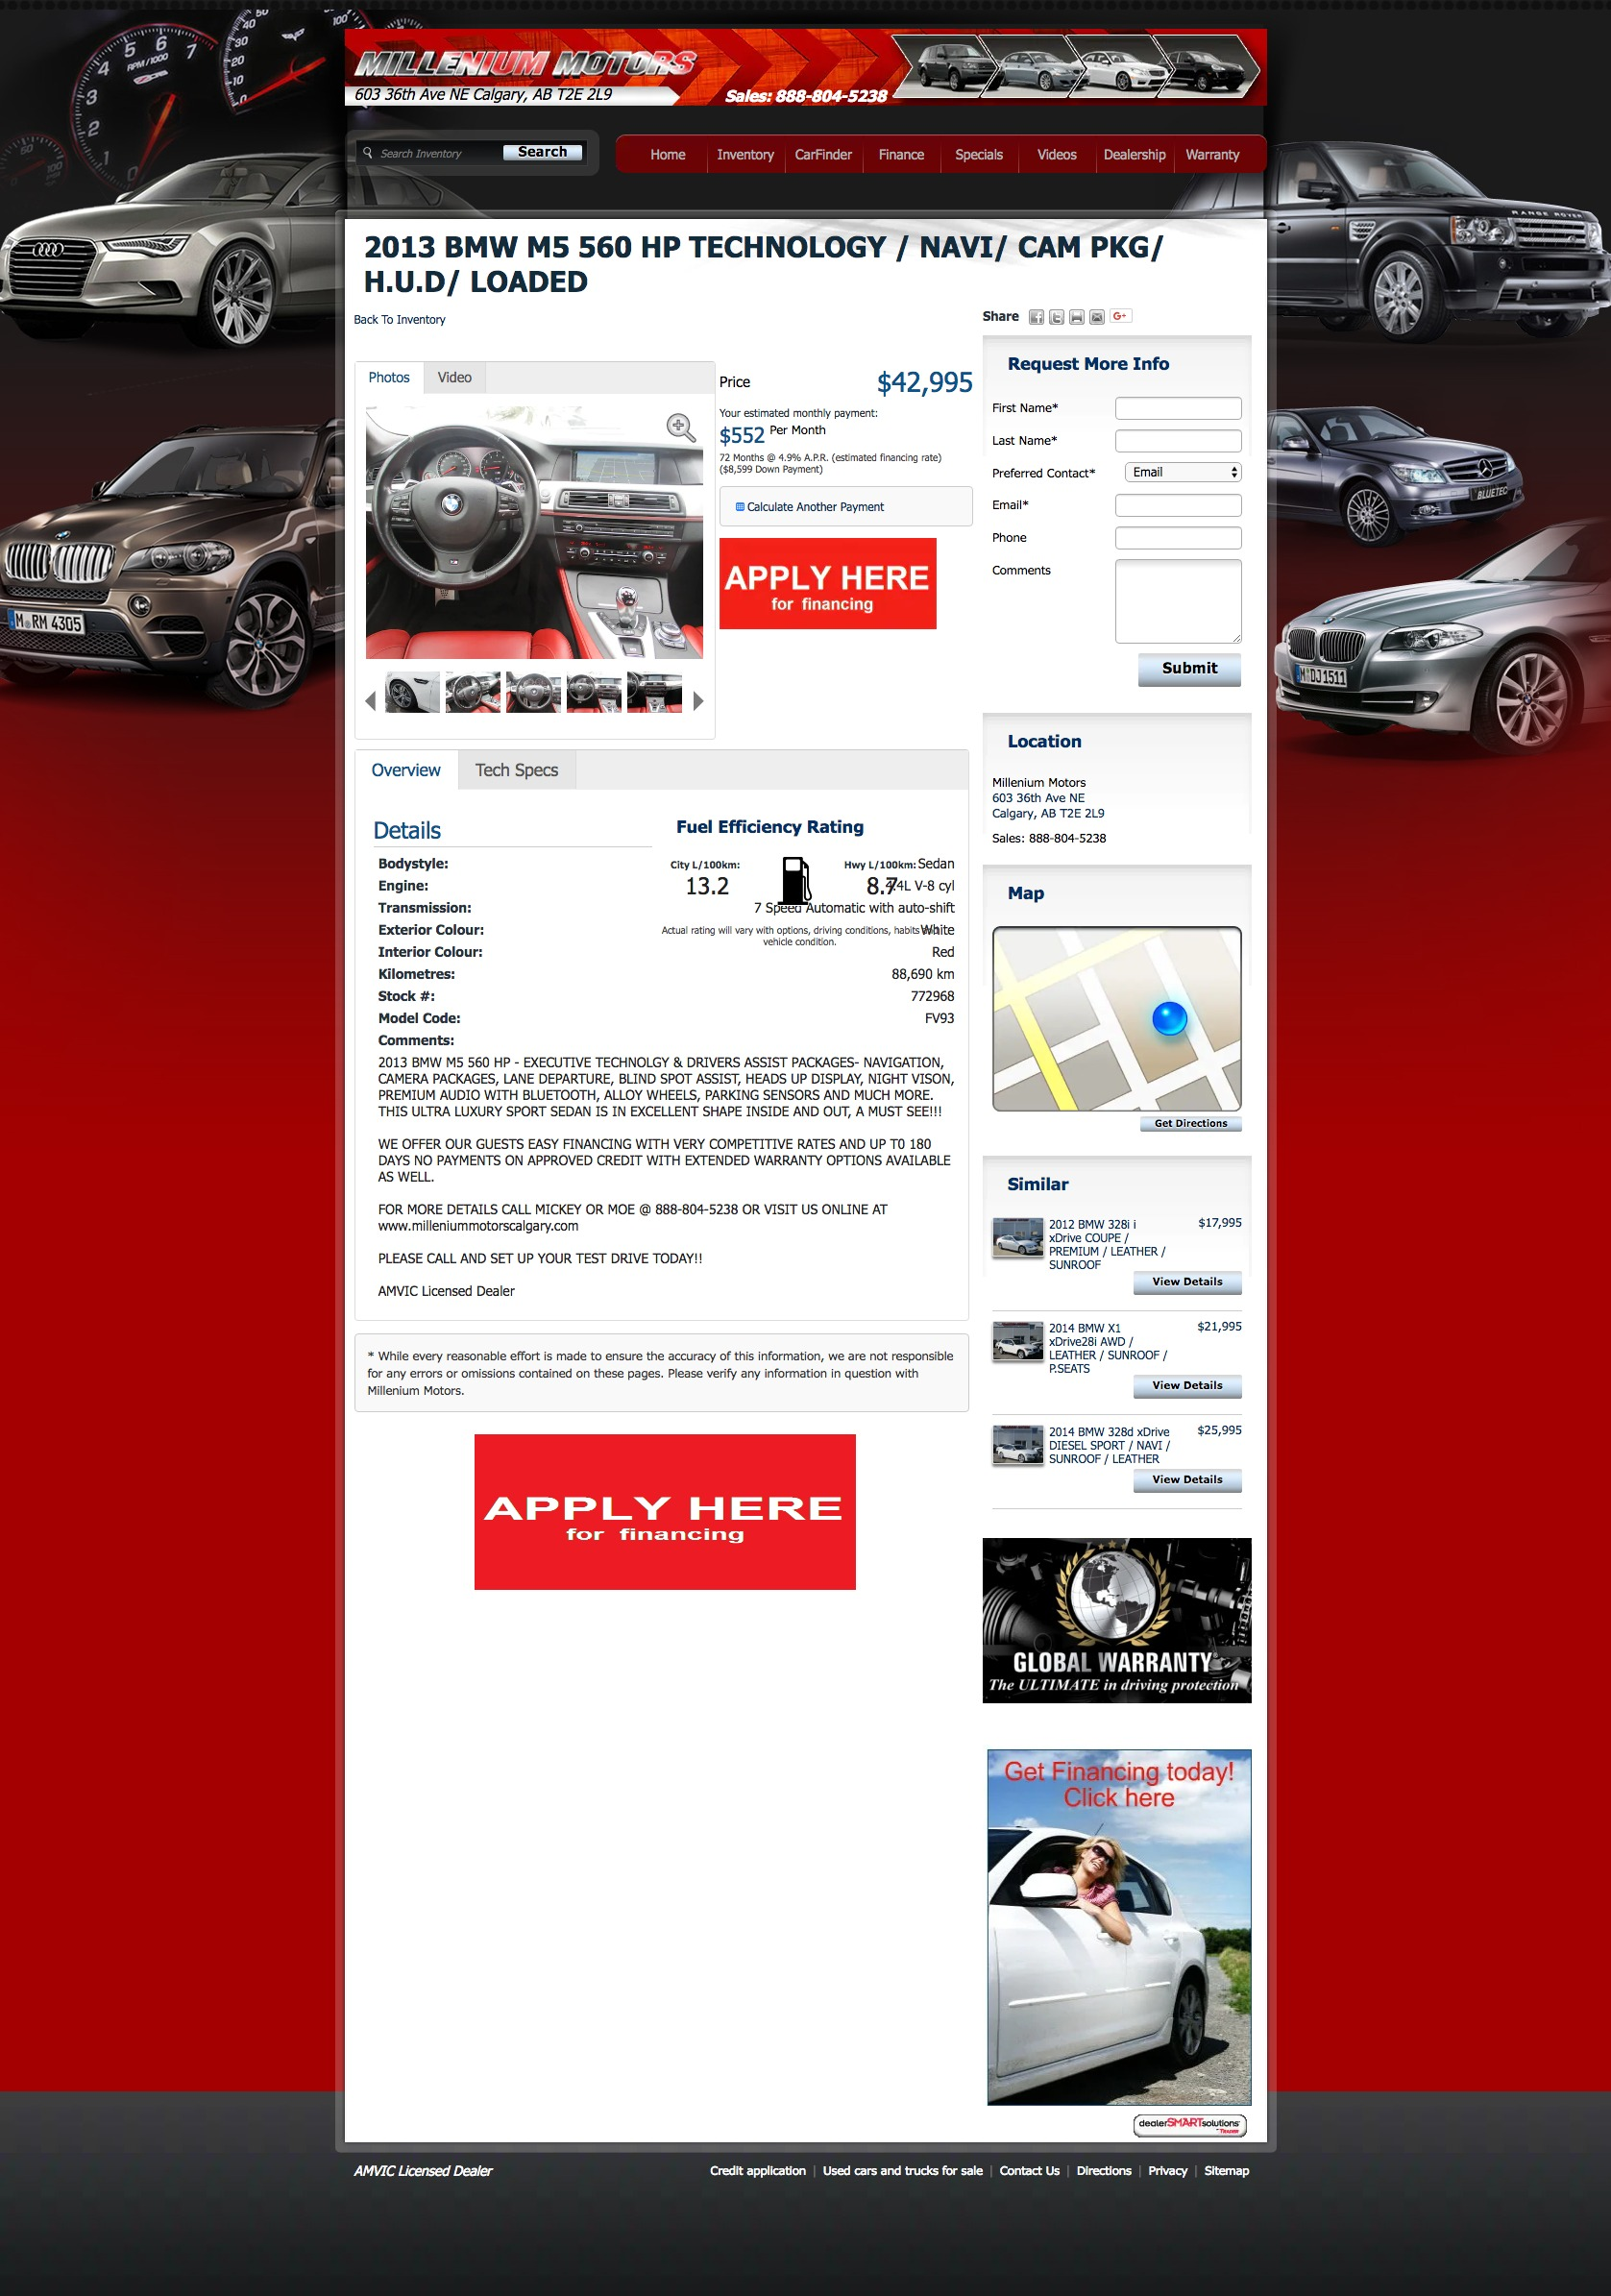car: (693, 691, 705, 714)
